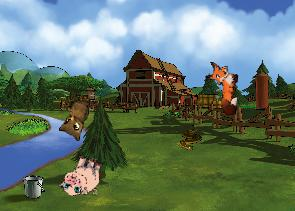fox: (202, 61, 241, 115)
owl: (57, 91, 90, 141)
pig: (57, 150, 107, 202)
